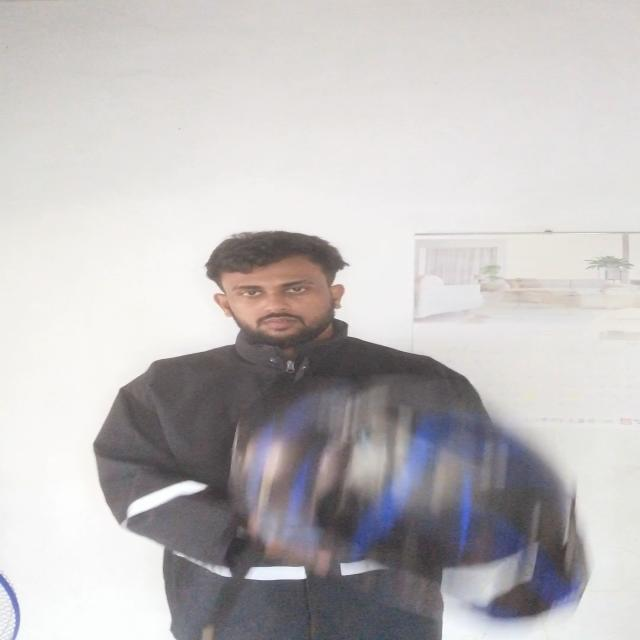Jacket_Wearer: (100, 312, 522, 640)
